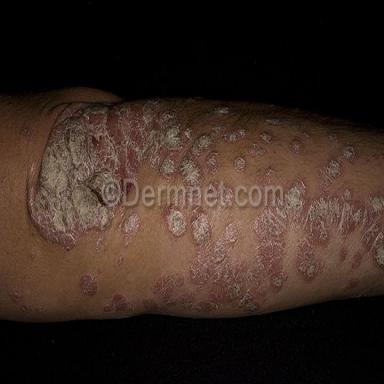Psoriasis: (141, 181, 384, 314), (29, 100, 245, 249), (317, 160, 341, 196), (118, 211, 141, 246), (103, 293, 134, 314), (167, 208, 187, 237), (79, 272, 98, 297), (257, 169, 275, 185), (339, 144, 355, 162), (96, 235, 108, 253), (249, 143, 265, 156), (352, 251, 362, 269), (344, 278, 359, 290), (290, 139, 302, 153), (234, 157, 245, 172), (260, 132, 272, 145), (265, 117, 281, 126), (115, 254, 125, 267), (215, 106, 229, 115), (340, 247, 348, 261), (329, 133, 337, 142), (302, 132, 310, 138), (291, 125, 299, 129)
